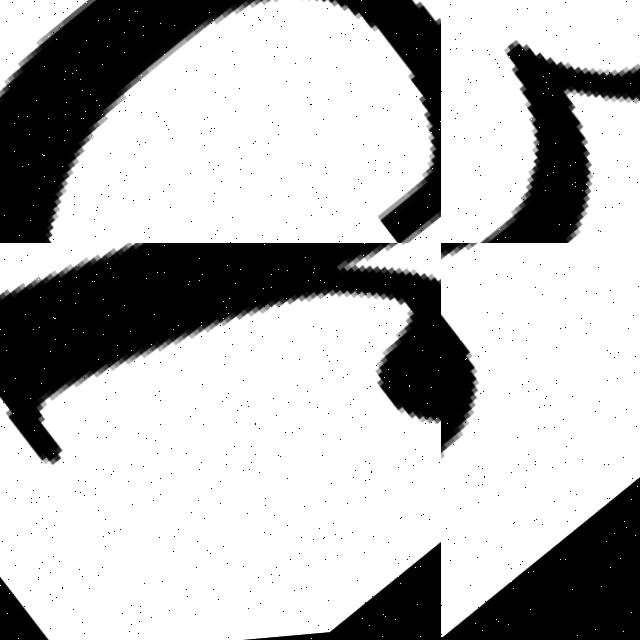3: (441, 0, 640, 243)
C: (0, 0, 441, 243)
R: (0, 243, 441, 640)
